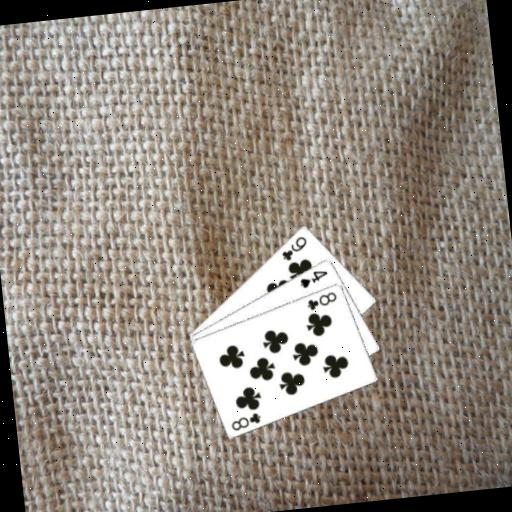4S: (297, 266, 331, 290)
8C: (303, 289, 340, 313), (228, 409, 264, 433)
9C: (277, 232, 310, 263)
